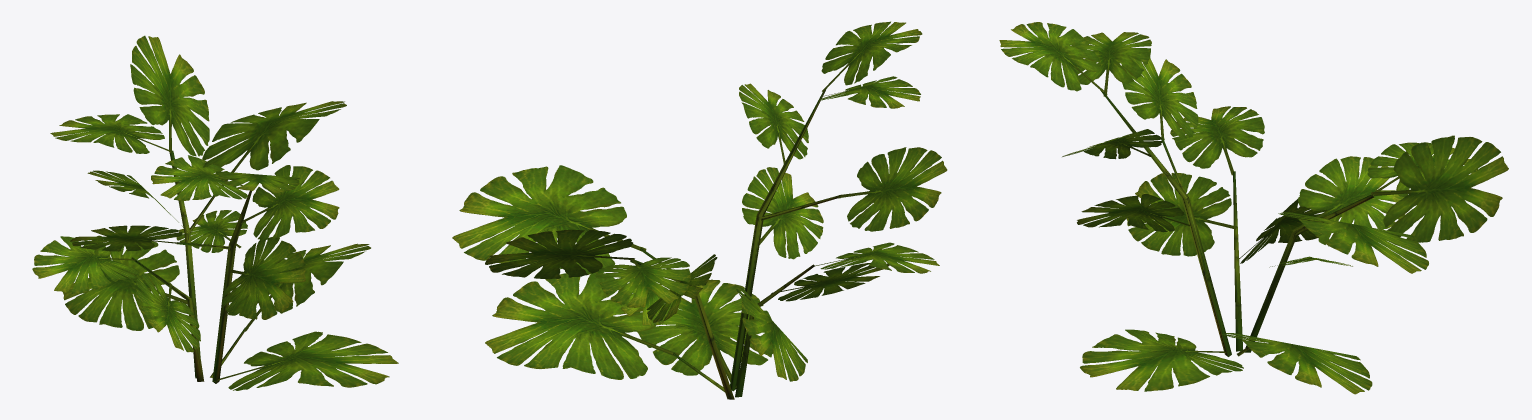
The model's file is kuoyeguanmu_xn_42_01.FBX.
The picture shows the model from 3 angles, left to right: view 1: azimuth 30°, elevation 25°; view 2: azimuth 150°, elevation 25°; view 3: azimuth 270°, elevation 25°; orthographic projection. The views are drawn at different scales.
Parts seen in each view (by area): view 1: kuoyeguanmu_xn_42_01; view 2: kuoyeguanmu_xn_42_01; view 3: kuoyeguanmu_xn_42_01.
Boxes of the visible parts, x1=… form: kuoyeguanmu_xn_42_01: x1=32, y1=35, x2=398, y2=390; kuoyeguanmu_xn_42_01: x1=452, y1=21, x2=947, y2=399; kuoyeguanmu_xn_42_01: x1=999, y1=22, x2=1508, y2=394.
Bounding box in the file's own units: 382 × 265 × 436.
